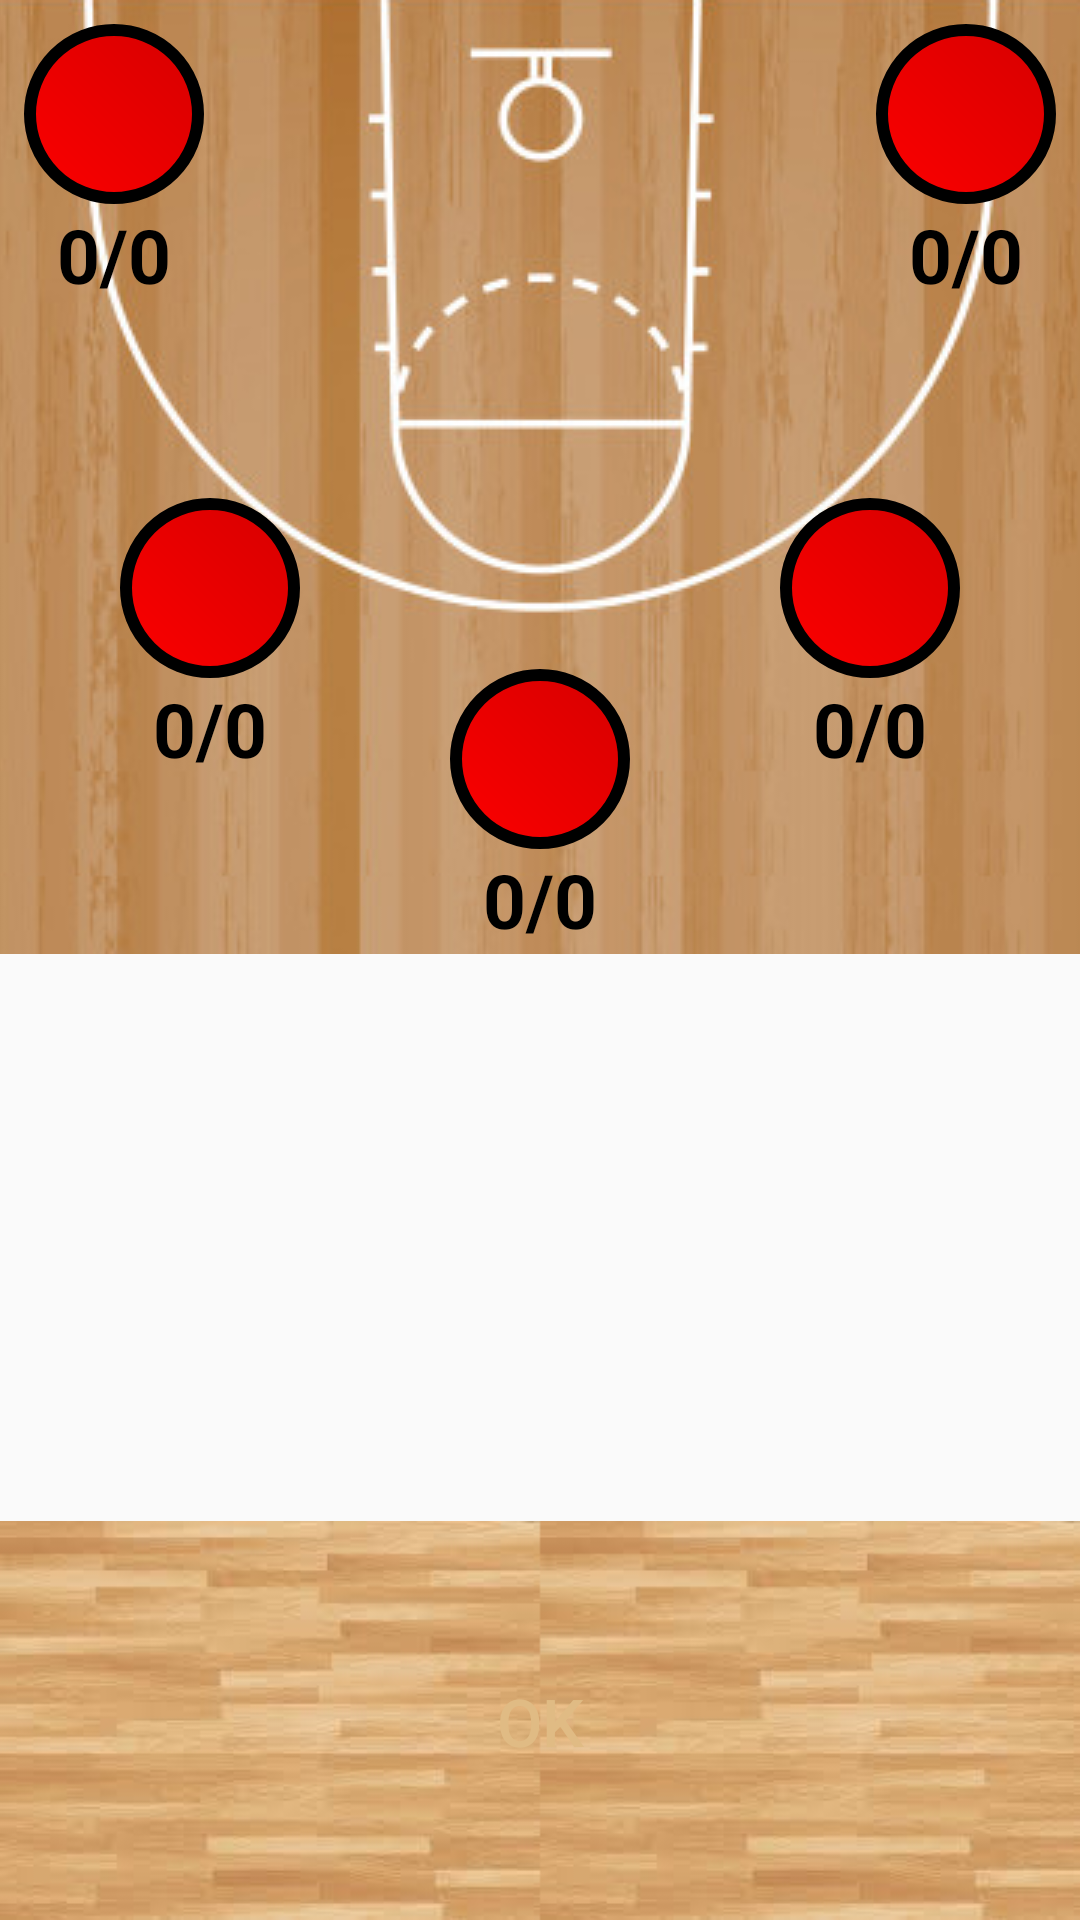

Named icons in this screenshot (1080px x 1920px) and their bounding boxes, (x1, y1, x2, y2):
spot transition: (24, 24, 204, 204), (876, 24, 1056, 204), (120, 498, 300, 678), (780, 498, 960, 678), (450, 669, 630, 849)
